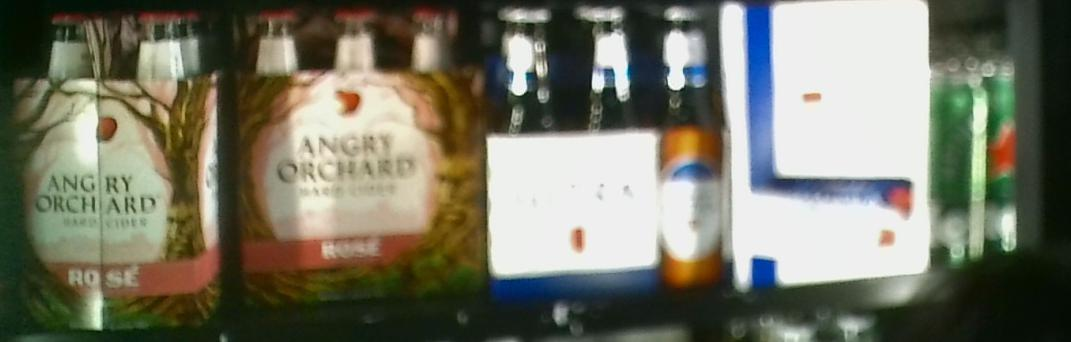bottle: (231, 7, 489, 312), (497, 4, 731, 303), (13, 11, 229, 331), (728, 6, 931, 278)
